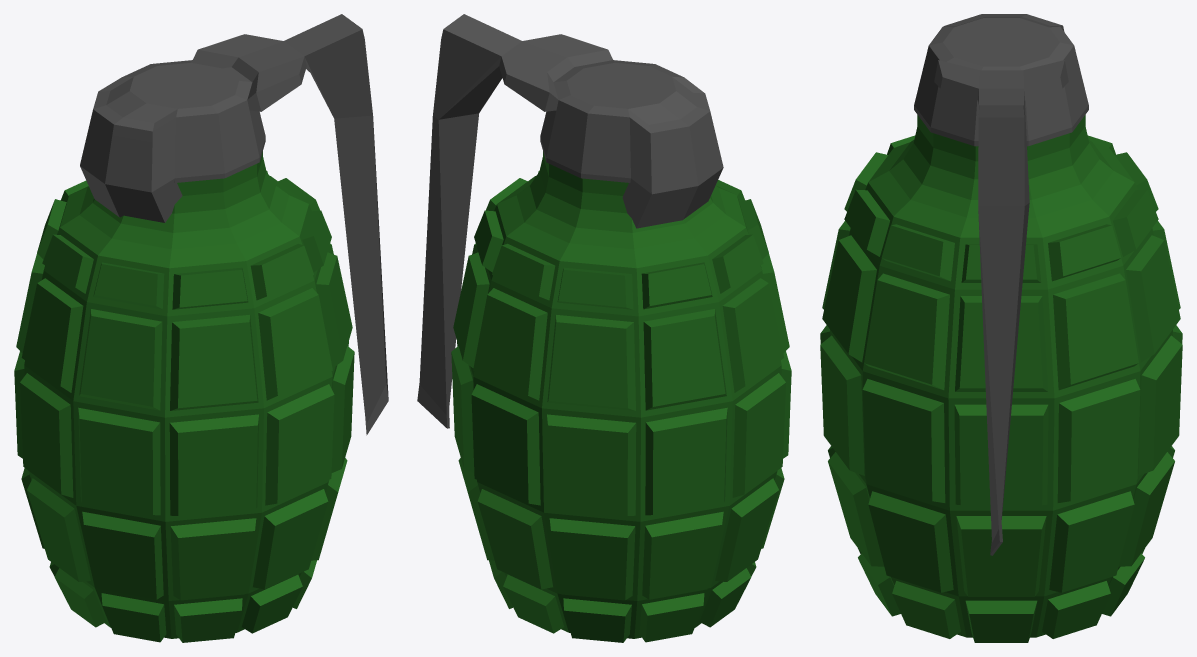
Rendered from grenade_f1.fbx.
3 views of the same model, side by side, from view 1: azimuth 30°, elevation 25°; view 2: azimuth 150°, elevation 25°; view 3: azimuth 270°, elevation 25° (orthographic). The views are drawn at different scales.
Visible parts, largest first — view 1: Cylindre, Cylindre.001; view 2: Cylindre, Cylindre.001; view 3: Cylindre, Cylindre.001.
Boxes of the visible parts, x1,y1,x2,y2 form: Cylindre: [14, 151, 354, 642]; Cylindre.001: [80, 14, 388, 435]; Cylindre: [451, 151, 791, 642]; Cylindre.001: [417, 14, 723, 428]; Cylindre: [820, 115, 1182, 642]; Cylindre.001: [914, 14, 1088, 555].
Bounding box in the file's own units: 241 × 351 × 201.
